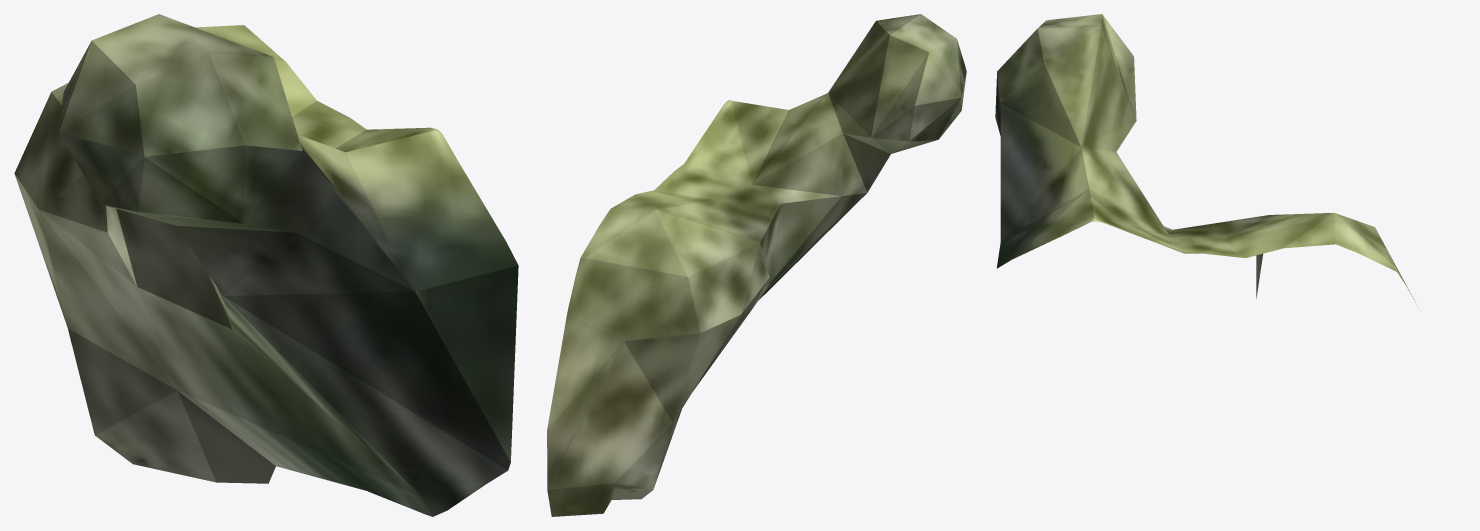
The picture shows the model from 3 angles, left to right: view 1: azimuth 30°, elevation 25°; view 2: azimuth 150°, elevation 25°; view 3: azimuth 270°, elevation 25°; orthographic projection. The views are drawn at different scales.
Bounding box in the file's own units: 0.9977 × 1.63 × 1.71.
1 material, 1 textured.
